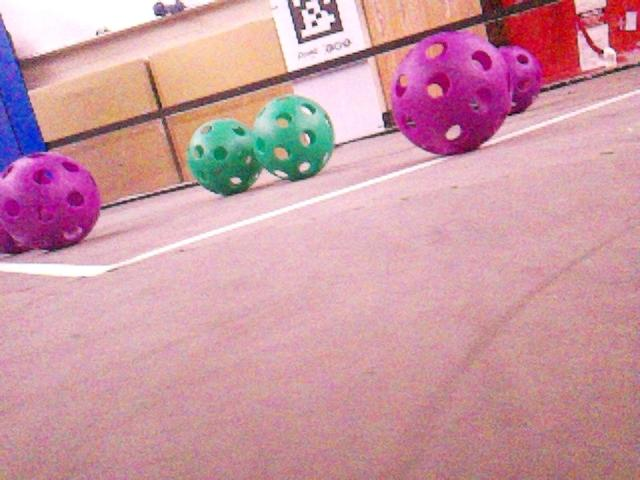Green: (251, 95, 333, 180), (185, 118, 262, 195)
Purple: (390, 30, 513, 153), (0, 153, 98, 252), (500, 46, 543, 114), (0, 172, 29, 254)
